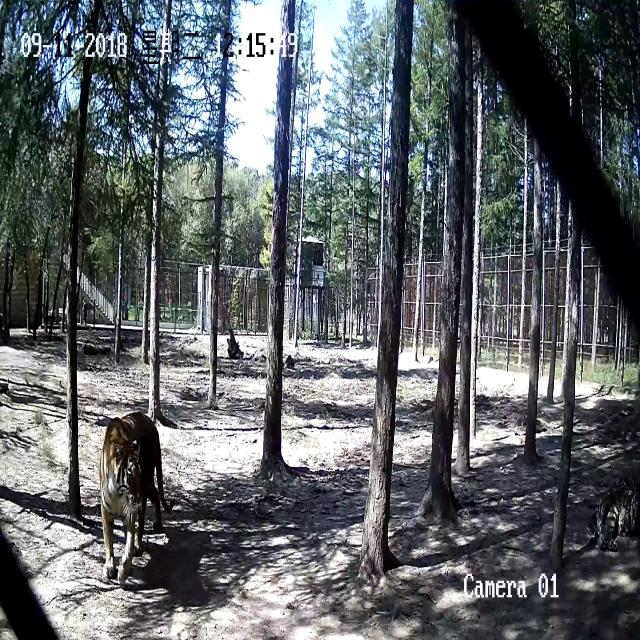Tiger: (87, 404, 183, 584)
